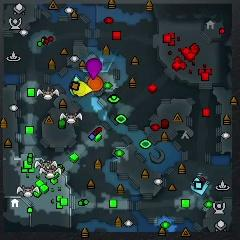p2: (70, 75, 81, 96)
p3: (86, 58, 101, 79)
p4: (74, 81, 92, 96)
p5: (87, 76, 105, 92)
x3: (191, 177, 209, 195)
